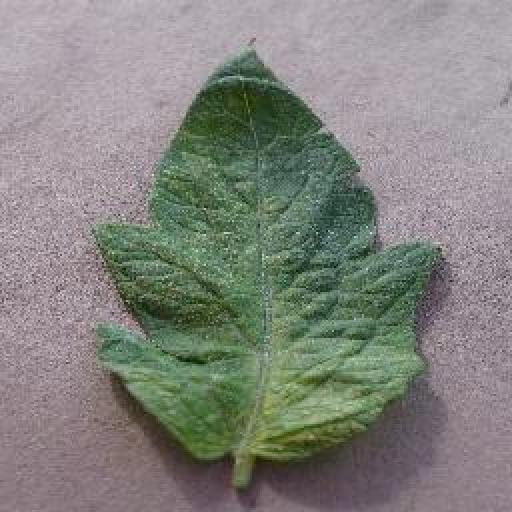disease_tomato: (88, 34, 442, 464)
